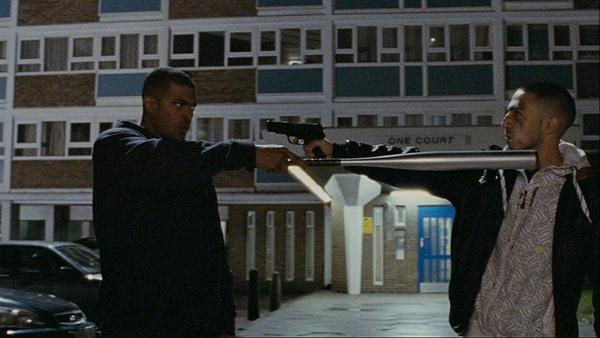Gun: (265, 119, 328, 160)
